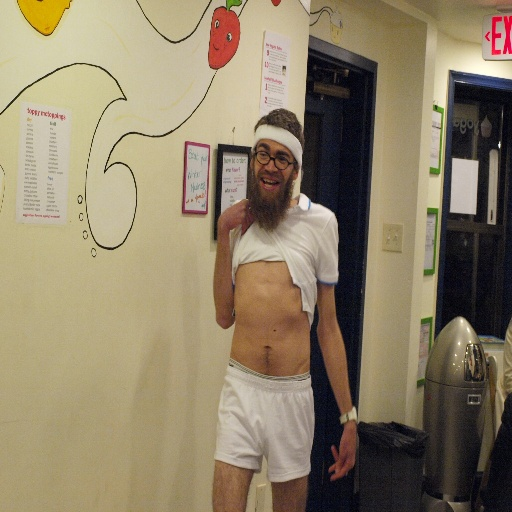hand: (337, 397, 368, 495), (216, 197, 255, 232)
